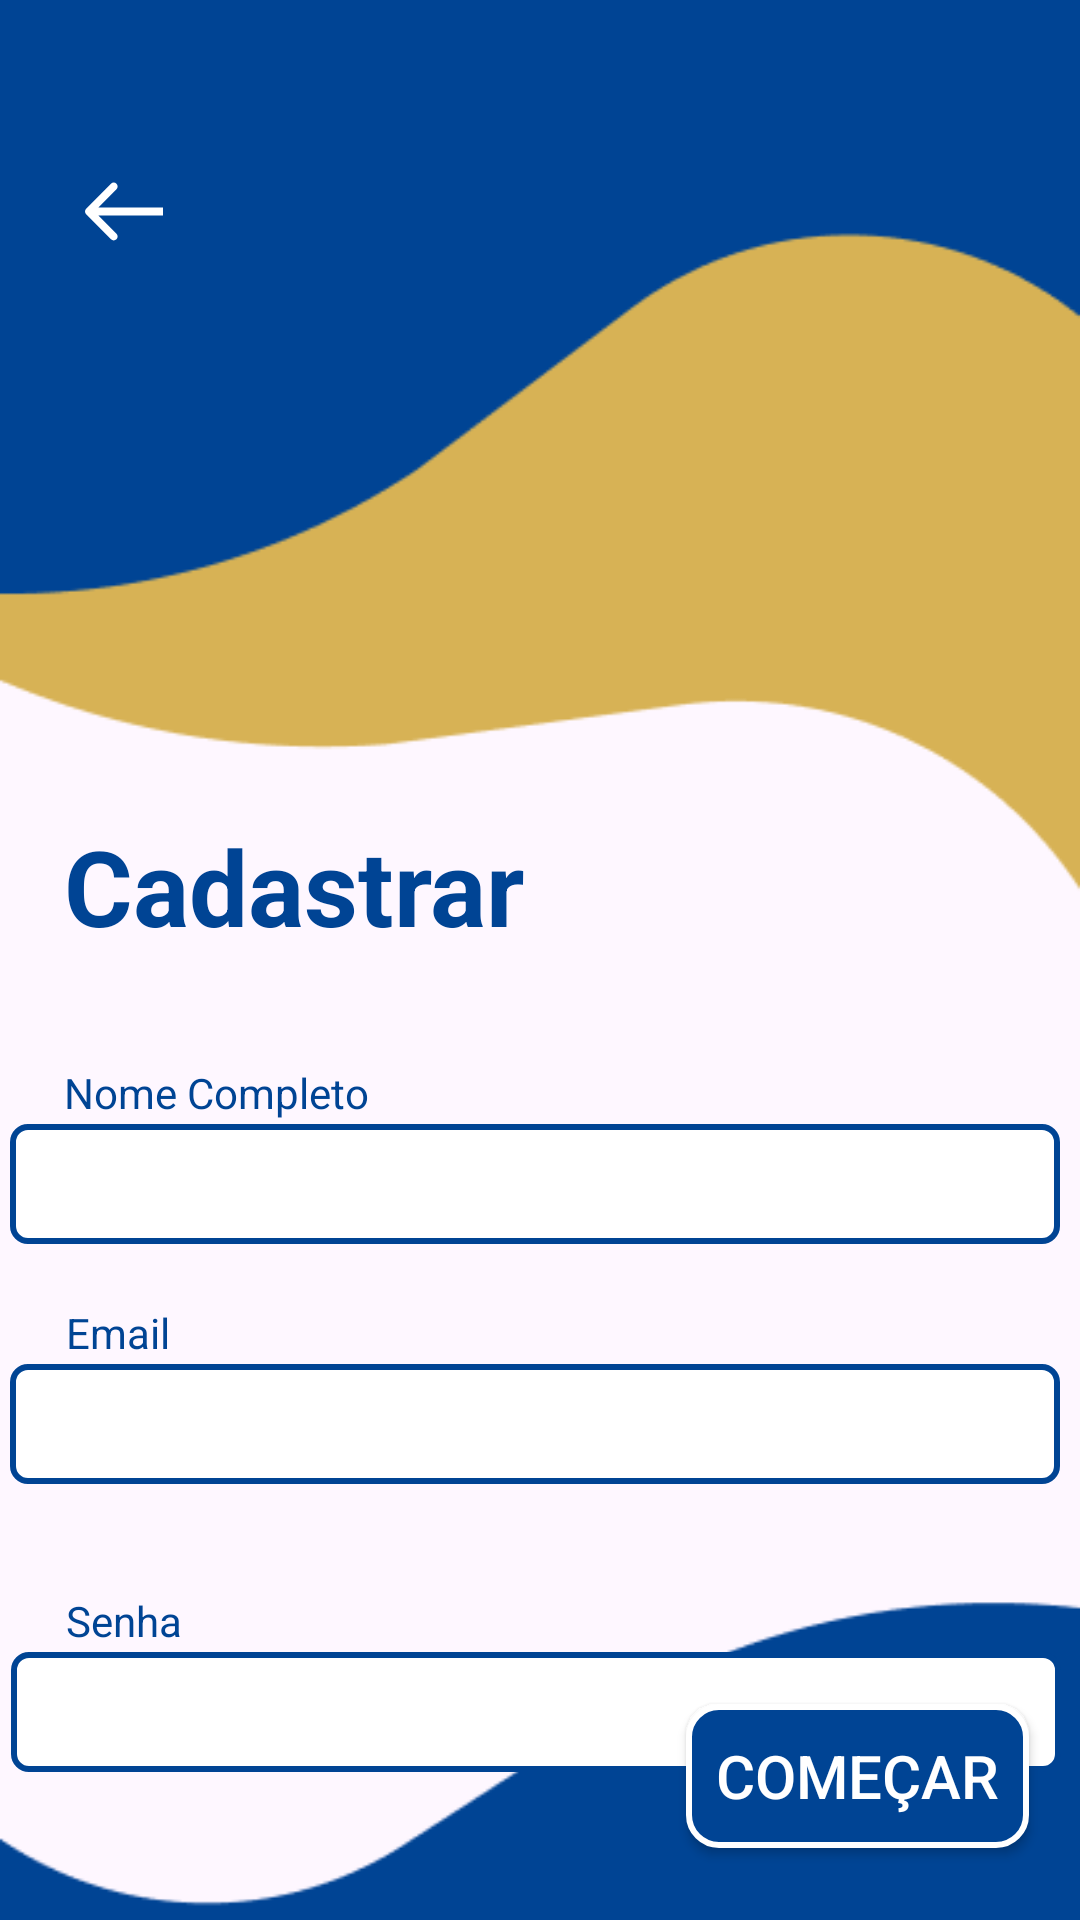

Screen size 1080*1920. Icon name, then its box in pixels as (x1, y1, x2, y2):
arrow: (85, 182, 163, 241)
